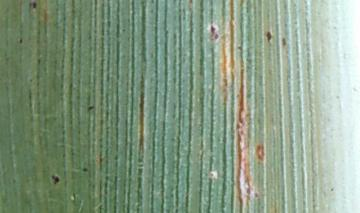tarspot: (266, 31, 273, 43), (86, 104, 95, 113), (52, 174, 60, 184), (209, 25, 217, 34), (30, 1, 38, 9), (281, 37, 287, 47), (213, 33, 220, 41), (82, 166, 88, 173), (18, 38, 24, 44), (72, 193, 78, 199)
